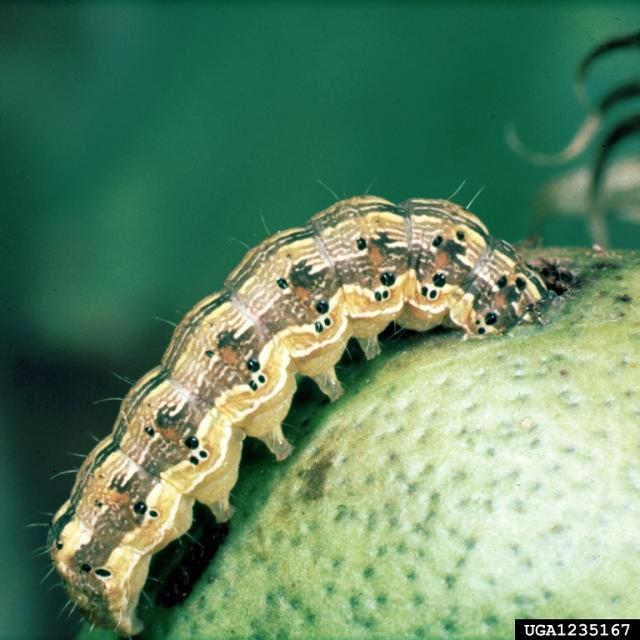Corn-earworm: (51, 181, 545, 623)
